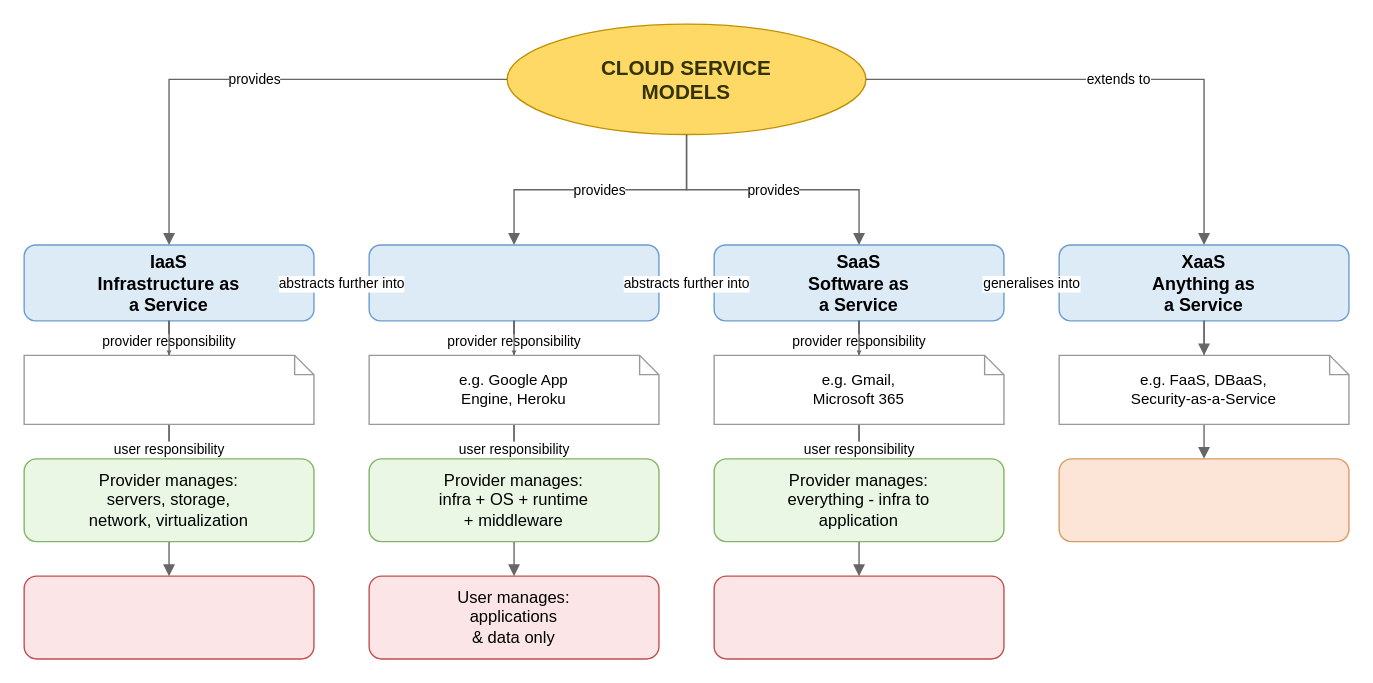
Image size: 1373x683. Some labels were removed from this diagram. The shapes that lost their labels are listed below. From the top down, each one's centre as x and y in pixels, then its label:
pixel 513 282: PaaS Platform as a Service
pixel 168 389: e.g. AWS EC2, Azure VMs
pixel 1203 499: Extends the same provider / user split to specialised services
pixel 168 617: User manages: OS, runtime, apps, data
pixel 858 617: User manages: only their data & usage settings
